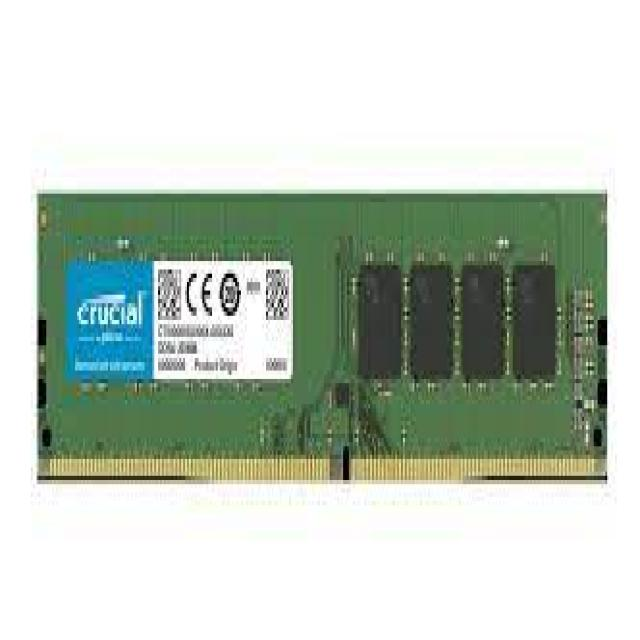Ram: (25, 132, 602, 562)
